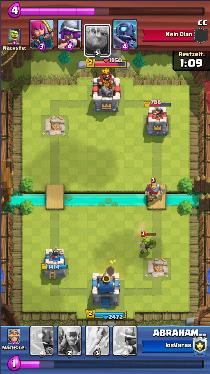ally_goblin_cage: (139, 235, 157, 249)
enemy_knight: (144, 183, 165, 201)
